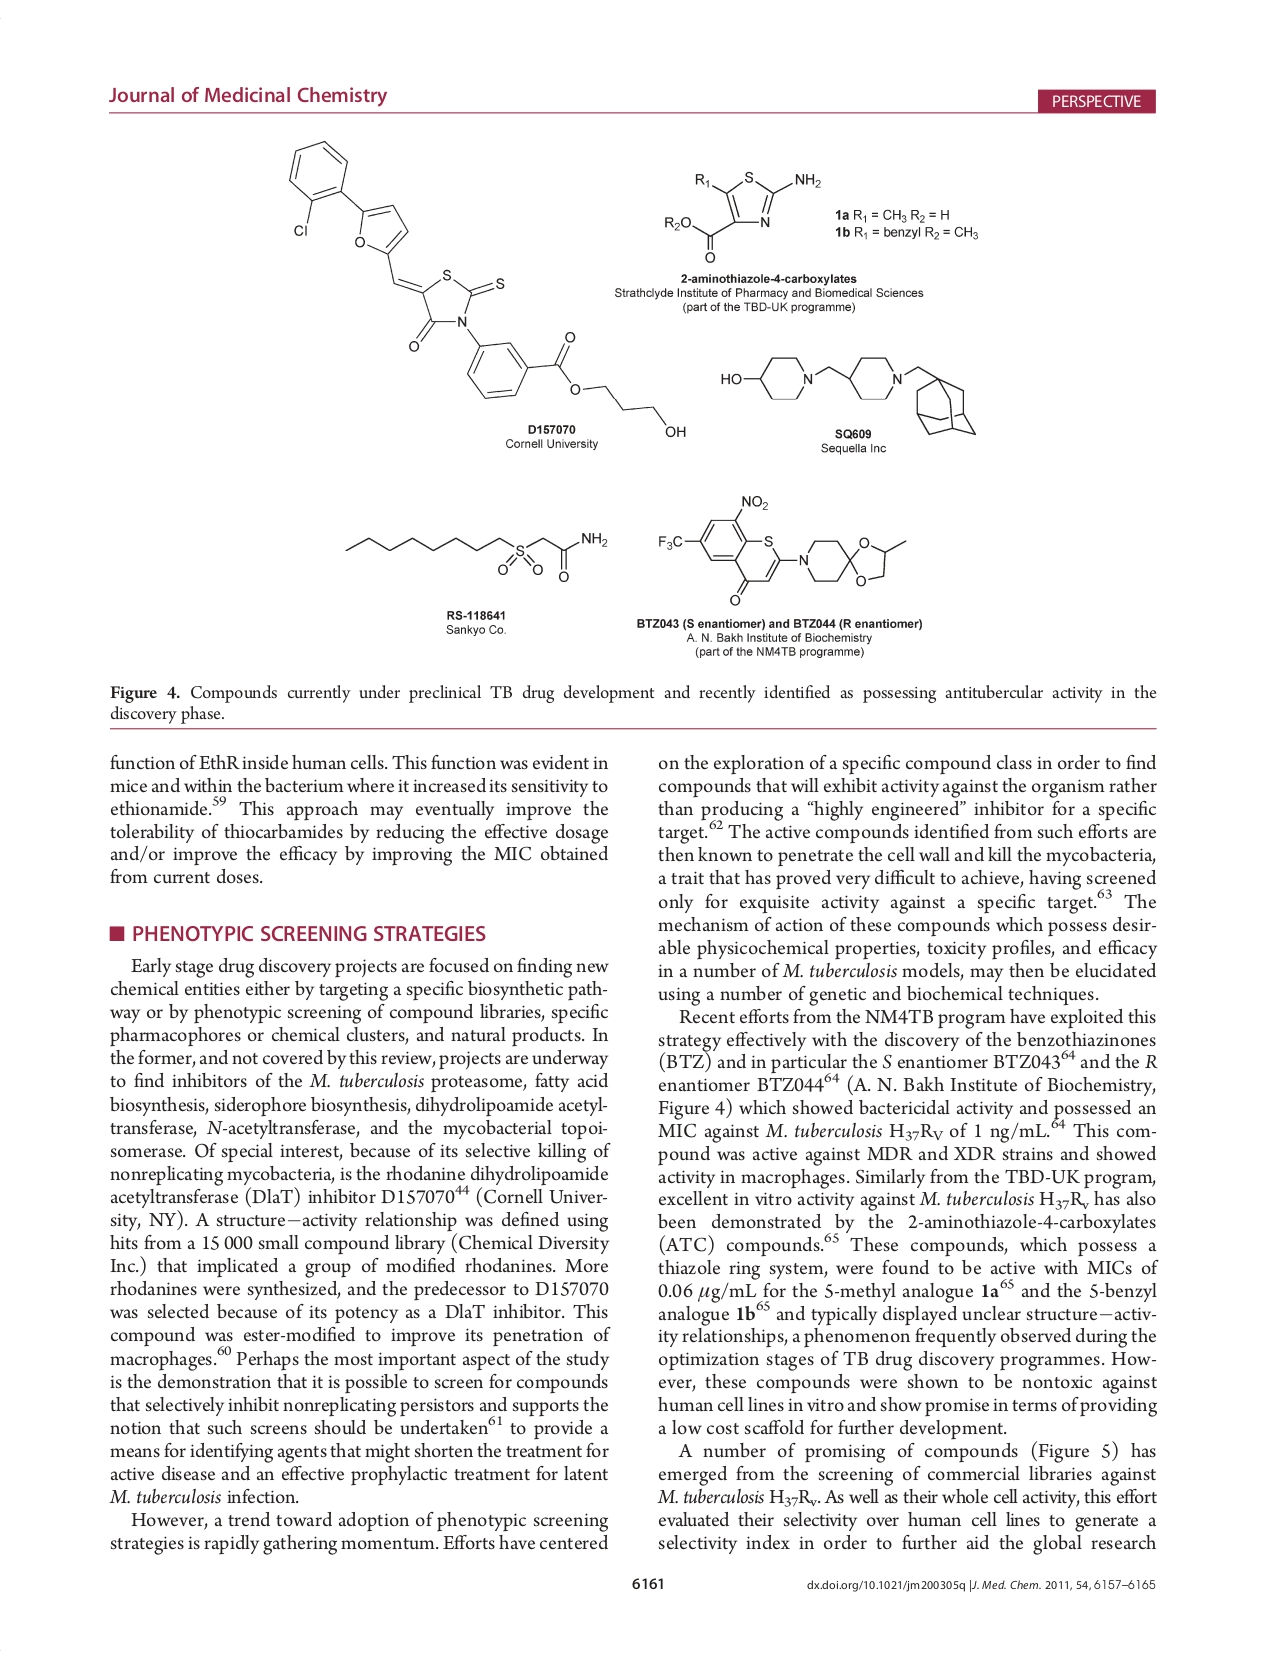exist_molecular: (286, 136, 688, 440), (656, 492, 908, 610), (719, 350, 979, 438), (340, 523, 608, 584), (660, 168, 822, 267)
